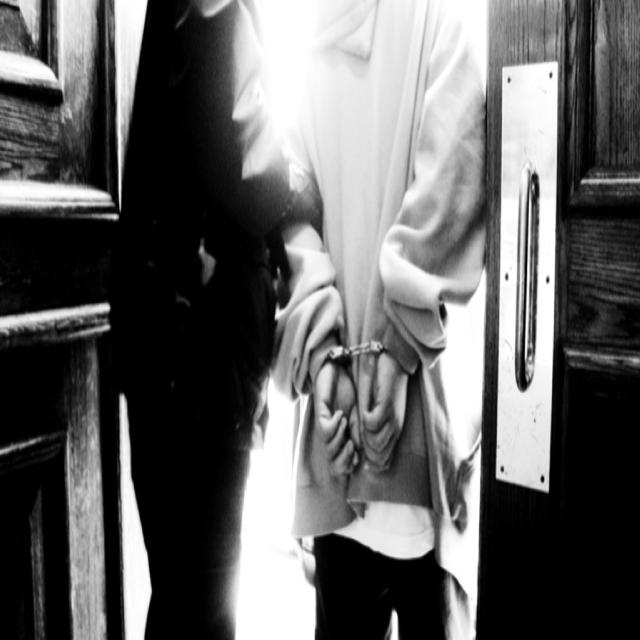doorhandle: (512, 174, 538, 395)
